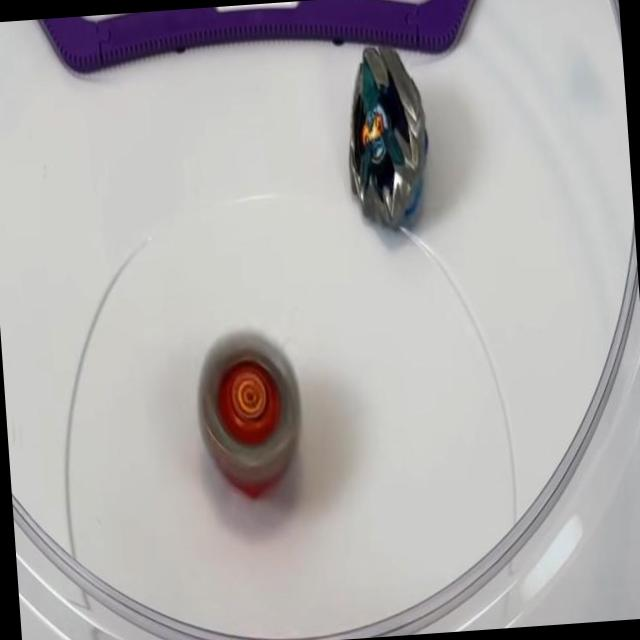Beyblade: (194, 326, 308, 504), (340, 43, 435, 233)
